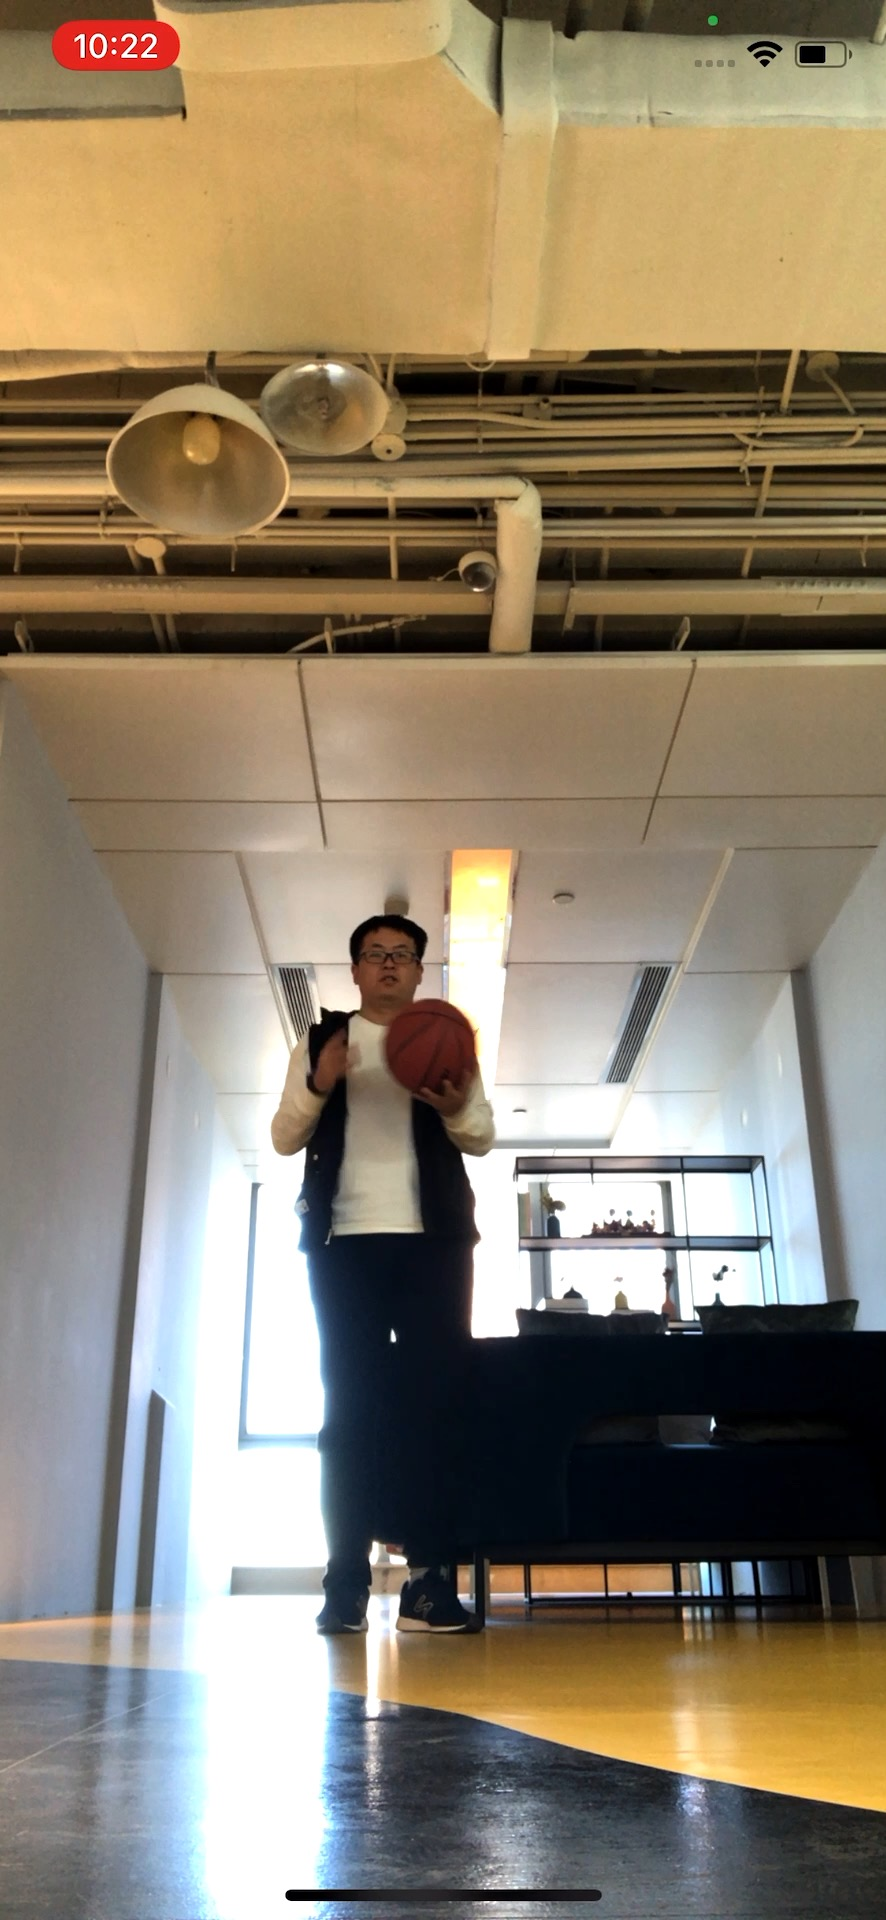ball: (384, 998, 476, 1098)
